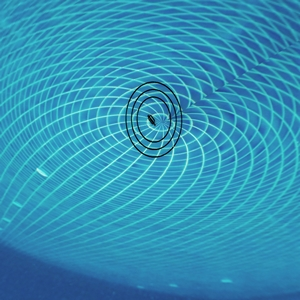circle: (126, 71, 185, 170)
submarine: (146, 115, 157, 125)
